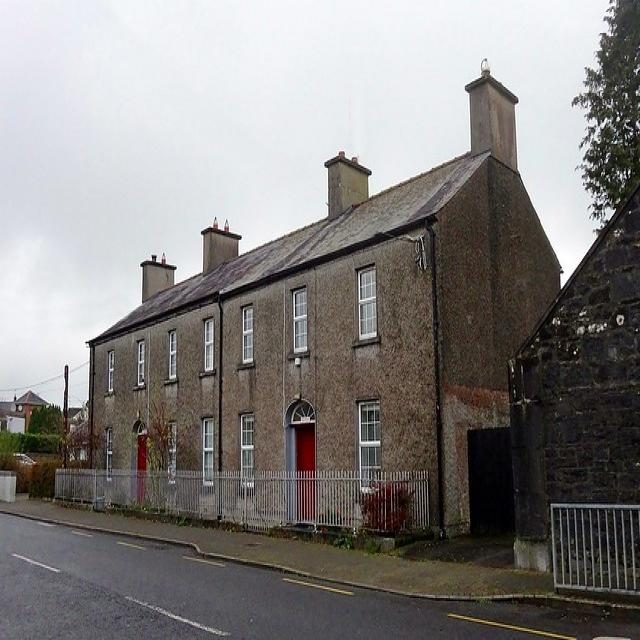Normal_building: (81, 66, 565, 559)
